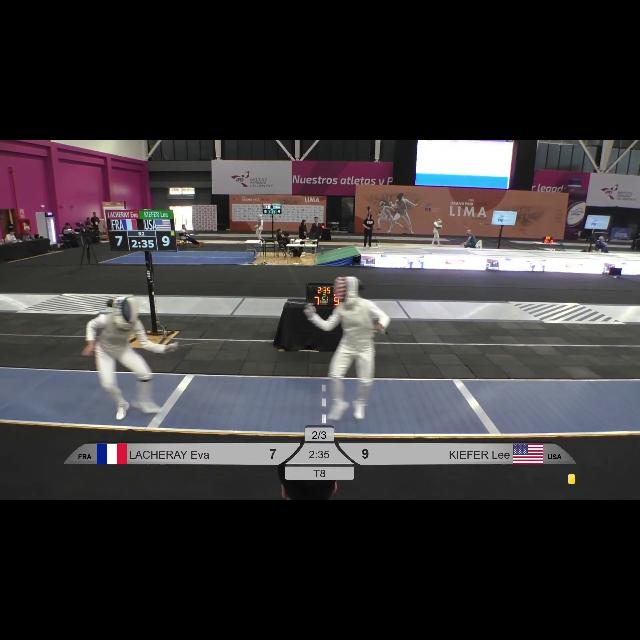blade: (279, 256, 315, 310), (172, 338, 228, 350)
